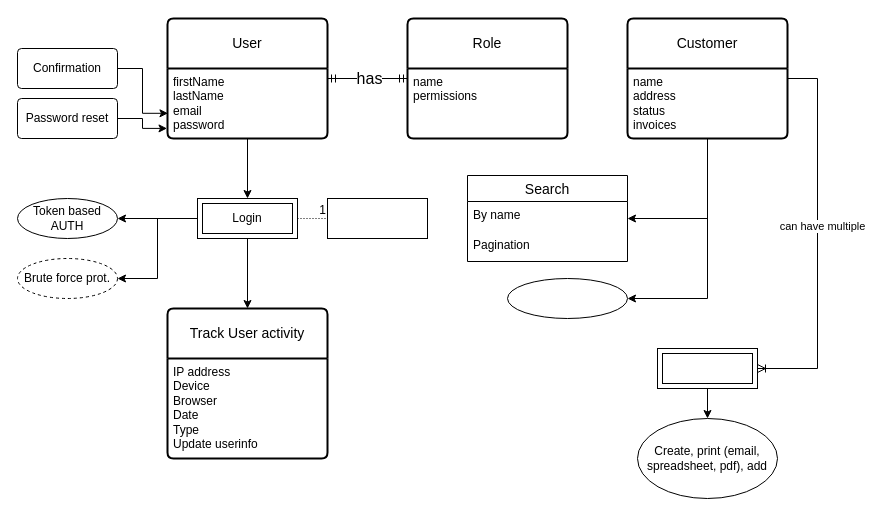
Image size: 882x516. Some labels were removed from this diagram. Each missing label, with the centre of its shape:
"Invoices" belongs at [707,368].
"Print spreadsheet" belongs at [567,298].
"Two factor Auth" belongs at [377,218].
